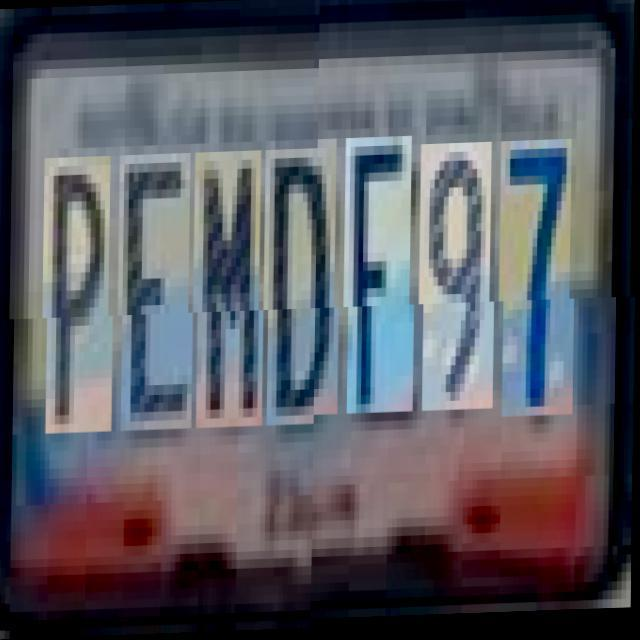7: (503, 152, 577, 430)
9: (423, 154, 497, 423)
D: (268, 150, 342, 428)
E: (122, 154, 196, 432)
F: (348, 148, 417, 426)
M: (198, 153, 266, 430)
P: (46, 157, 116, 434)
